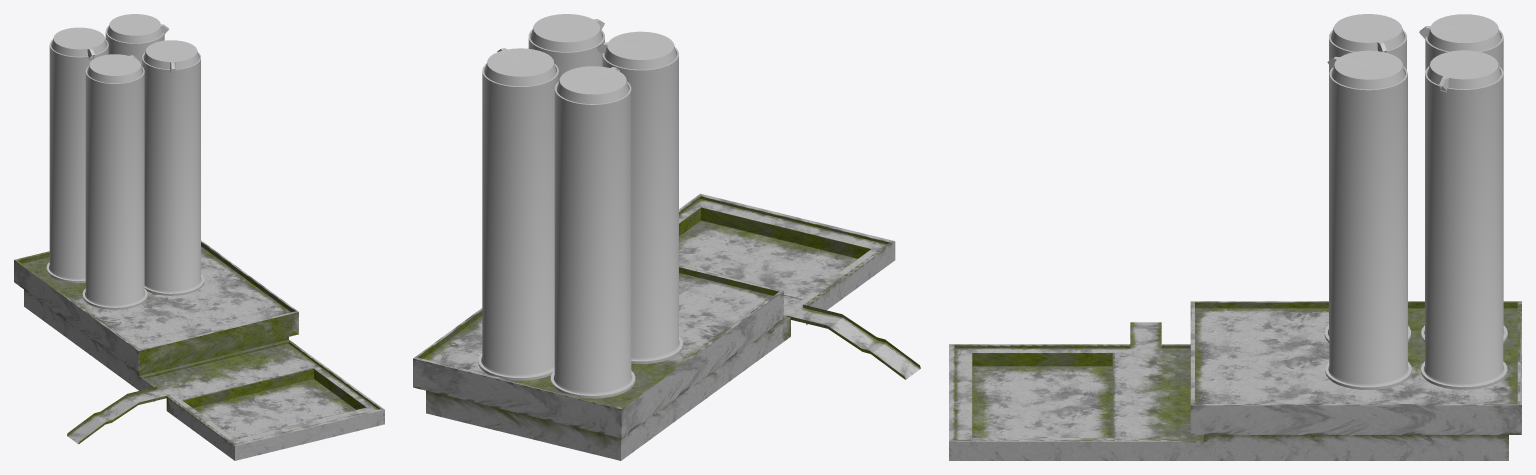
File: Silo Comped.fbx
The picture shows the model from 3 angles, left to right: view 1: azimuth 30°, elevation 25°; view 2: azimuth 150°, elevation 25°; view 3: azimuth 270°, elevation 25°; orthographic projection. The views are drawn at different scales.
Visible parts, largest first — view 1: Cylinder, Cube; view 2: Cylinder, Cube; view 3: Cube, Cylinder.
Boxes of the visible parts, <box> form: Cylinder: <box>46,14,204,309</box>; Cube: <box>14,240,384,460</box>; Cylinder: <box>478,14,683,398</box>; Cube: <box>413,193,920,460</box>; Cube: <box>949,301,1521,460</box>; Cylinder: <box>1324,14,1507,389</box>.
Bounding box in the file's own units: 2911 × 3239 × 4472.
